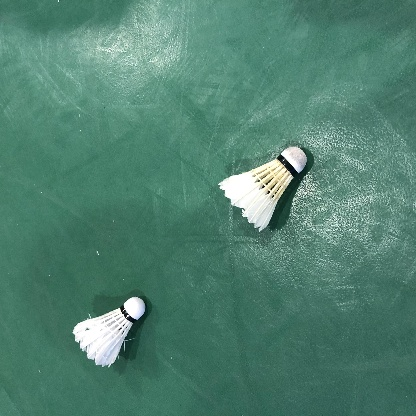ball_single: (218, 147, 307, 232), (72, 297, 145, 367)
